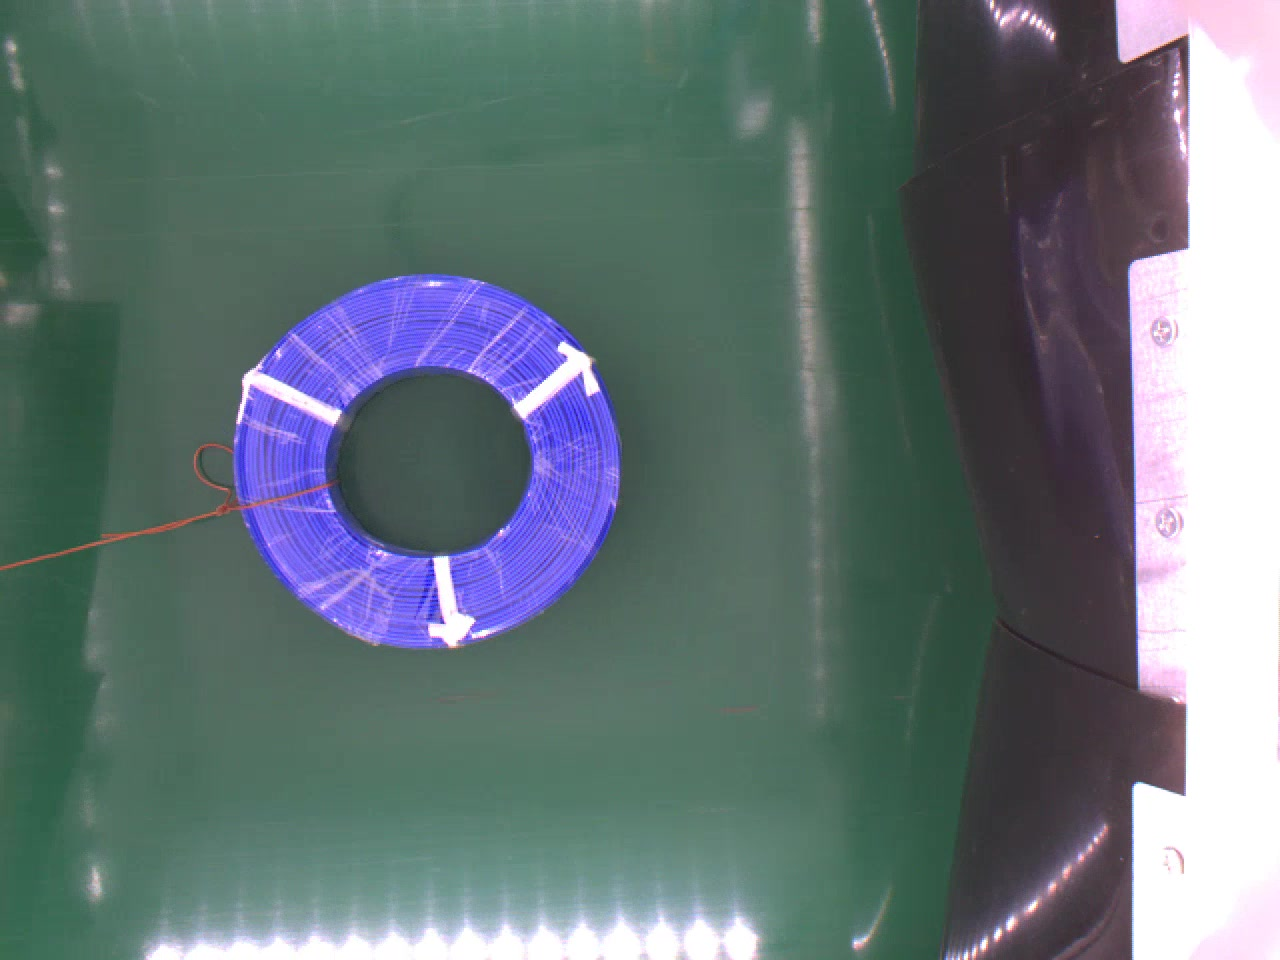blue: (228, 265, 628, 651)
